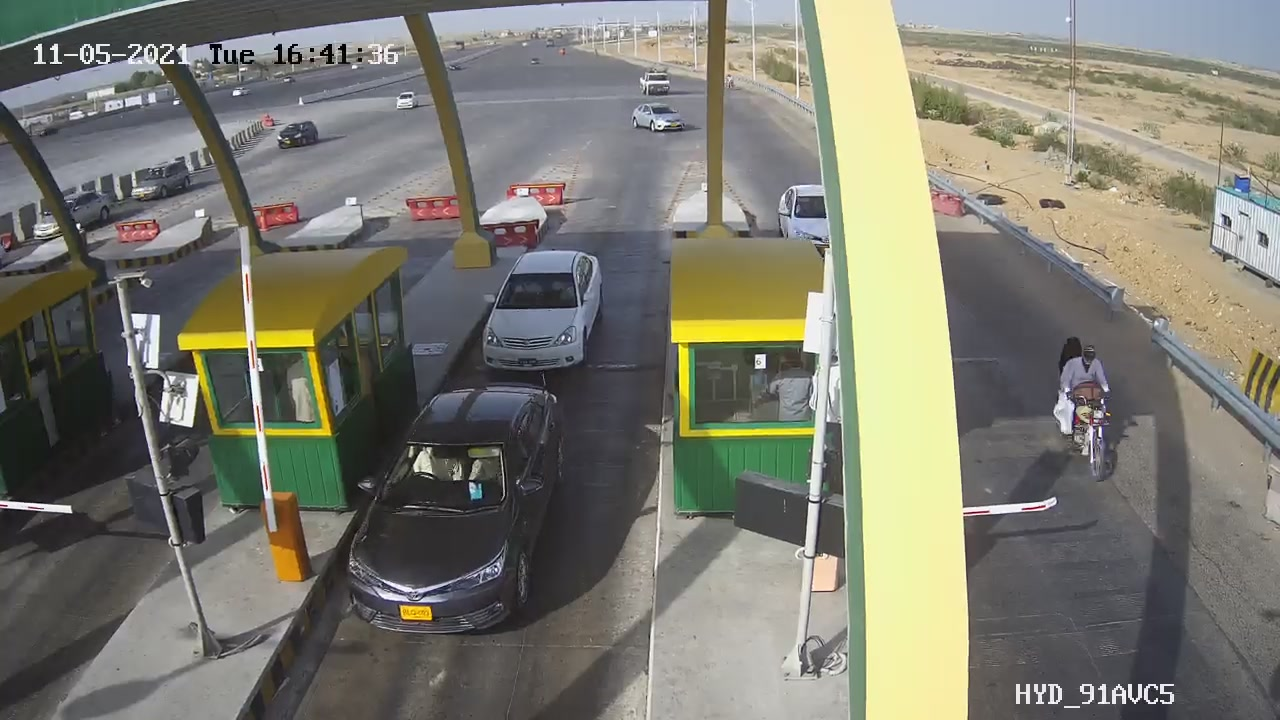F1: (457, 234, 635, 381)
